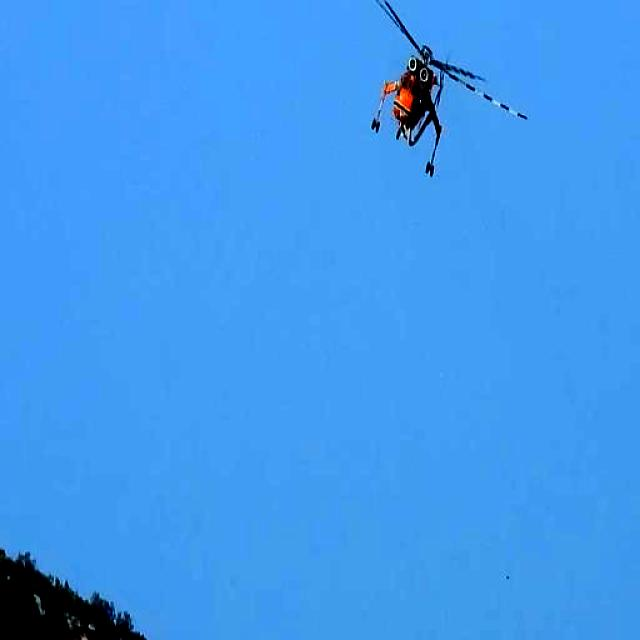drone: (312, 0, 524, 201)
